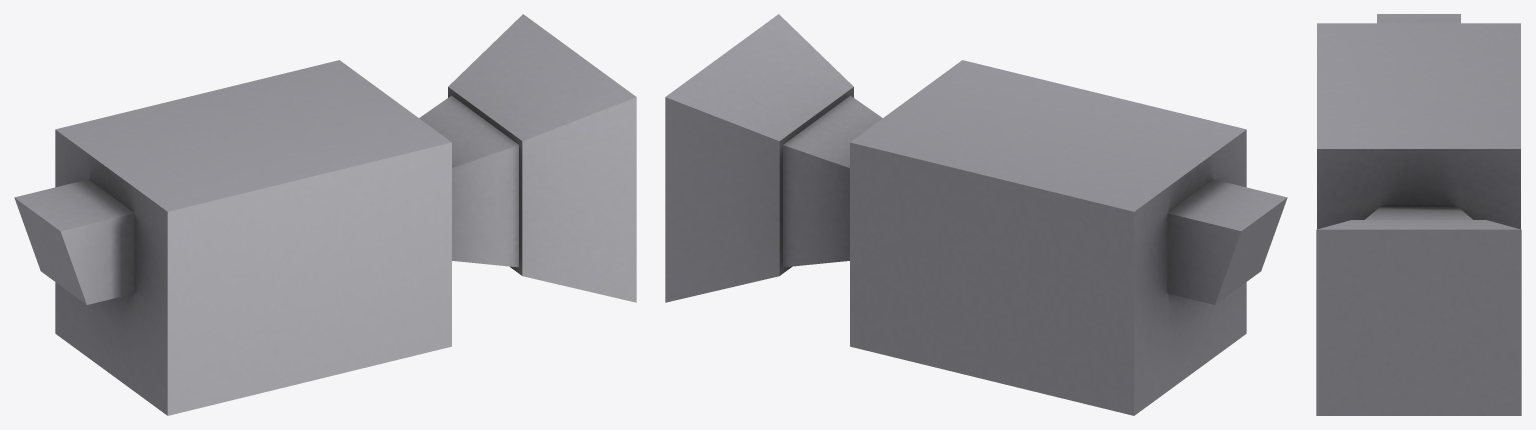
Rendered from camera1.gltf.
The picture shows the model from 3 angles, left to right: view 1: azimuth 30°, elevation 25°; view 2: azimuth 150°, elevation 25°; view 3: azimuth 270°, elevation 25°; orthographic projection. The views are drawn at different scales.
Visible parts, largest first — view 1: H; view 2: H; view 3: H.
Boxes of the visible parts, left/top/right/bottom form: H: left=14, top=14, right=636, bottom=415; H: left=665, top=14, right=1287, bottom=415; H: left=1316, top=14, right=1521, bottom=415.
Size of the model in its own units: 1 by 0.3623 by 0.3623.
1 material, 1 textured.
